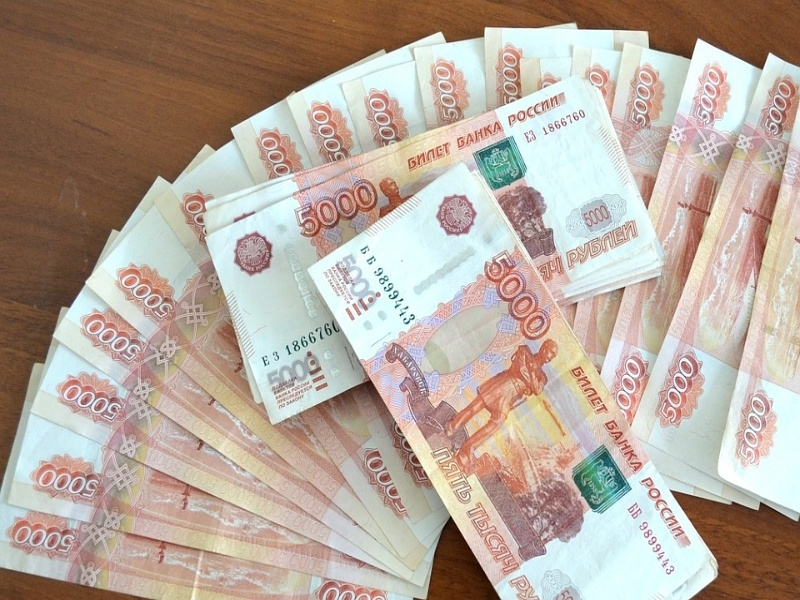cash: (1, 22, 800, 600), (309, 165, 718, 600), (202, 80, 667, 424)
